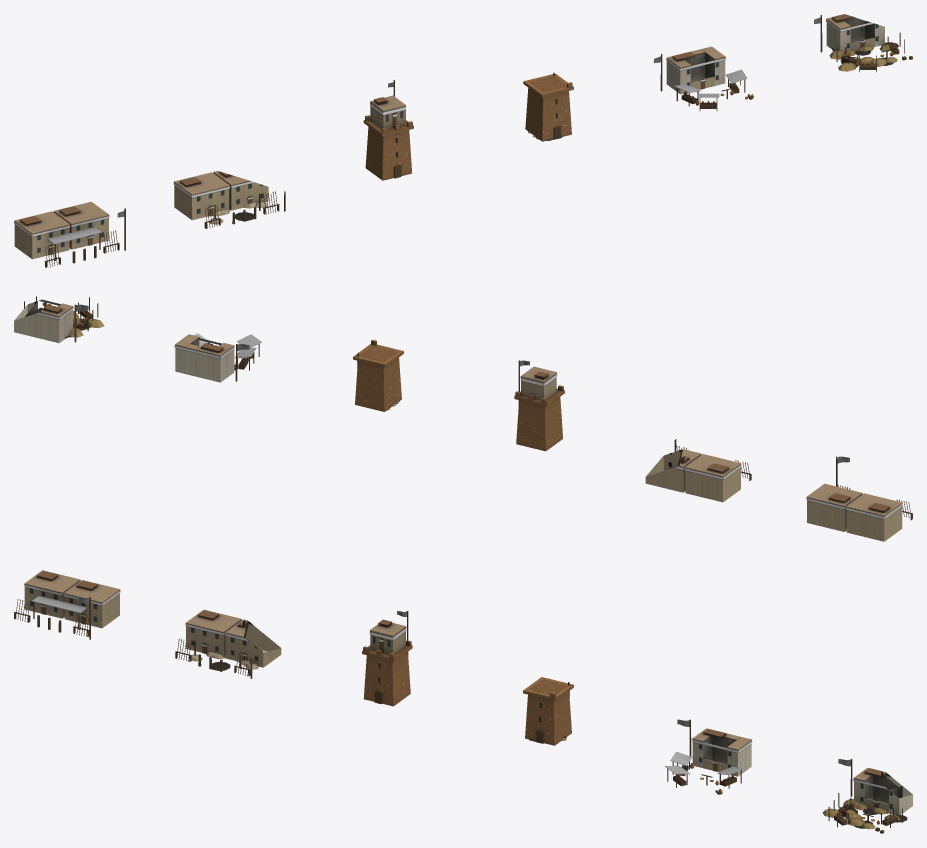
Rendered from rts-bronze-nile.glb.
3 renders of one model, top to bottom at view 1: azimuth 30°, elevation 25°; view 2: azimuth 150°, elevation 25°; view 3: azimuth 330°, elevation 25°, orthographic.
Parts seen in each view (by area): view 1: LOD0, LOD0.001, LOD0.002, LOD0.004, LOD0.005, LOD0.003; view 2: LOD0, LOD0.001, LOD0.002, LOD0.004, LOD0.003, LOD0.005; view 3: LOD0, LOD0.001, LOD0.002, LOD0.005, LOD0.004, LOD0.003.
Part boxes in pixels (x1,y1,x2,y2): LOD0: (14,201,125,267); LOD0.001: (173,171,285,228); LOD0.002: (363,79,413,180); LOD0.004: (654,46,753,110); LOD0.005: (814,14,912,72); LOD0.003: (523,72,573,141); LOD0: (806,456,912,541); LOD0.001: (645,439,751,502); LOD0.002: (514,360,564,451); LOD0.004: (174,333,262,382); LOD0.003: (353,339,403,411); LOD0.005: (14,296,104,343); LOD0: (14,570,120,639); LOD0.001: (175,609,281,678); LOD0.002: (362,611,412,706); LOD0.005: (822,759,912,833); LOD0.004: (665,719,752,794); LOD0.003: (523,677,573,745).
Size of what is drawn, in the model's own units: 16.34 by 1.48 by 1.36.
2 materials, 2 textured.
